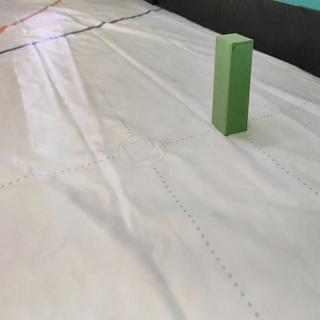greenbox: (211, 29, 255, 137)
